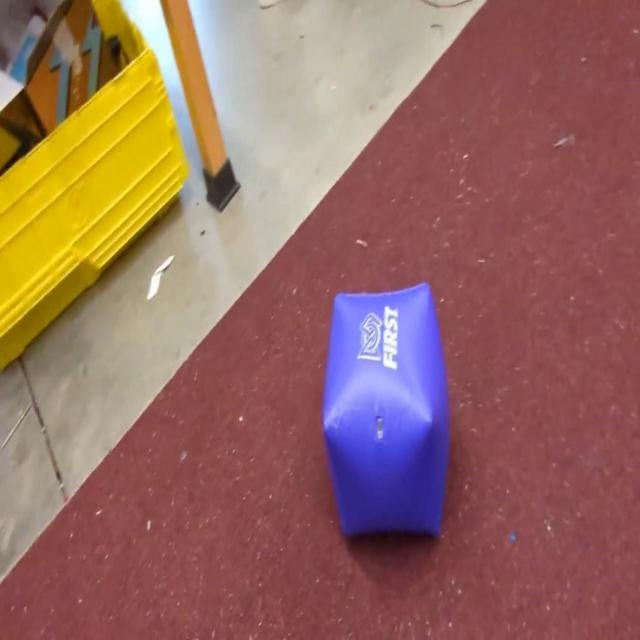frc_cube: (322, 279, 450, 542)
